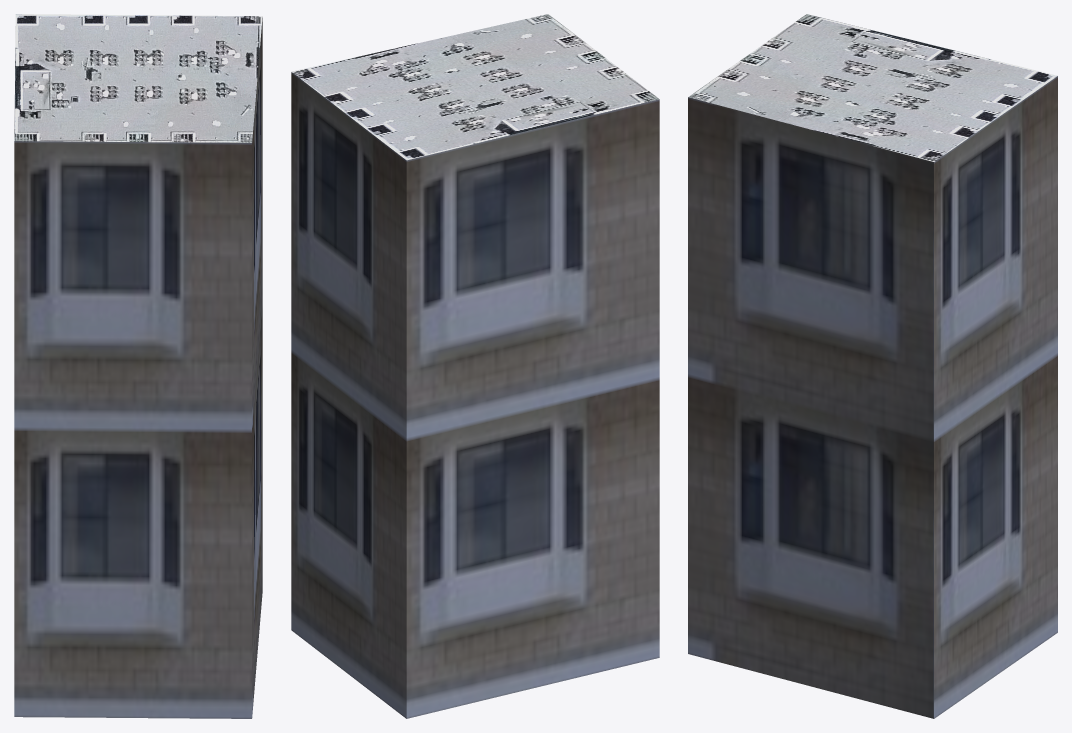
Rendered from ResTex__5170.fbx.
The picture shows the model from 3 angles, left to right: view 1: azimuth 30°, elevation 25°; view 2: azimuth 150°, elevation 25°; view 3: azimuth 270°, elevation 25°; orthographic projection. The views are drawn at different scales.
Visible parts, largest first — view 1: CityEngineMaterial_3_m, CityEngineMaterial_4_m; view 2: CityEngineMaterial_3_m, CityEngineMaterial_4_m; view 3: CityEngineMaterial_3_m, CityEngineMaterial_4_m.
Boxes of the visible parts, bbox=[...] form: CityEngineMaterial_3_m: bbox=[14, 18, 262, 718]; CityEngineMaterial_4_m: bbox=[14, 14, 262, 142]; CityEngineMaterial_3_m: bbox=[291, 72, 659, 718]; CityEngineMaterial_4_m: bbox=[291, 14, 659, 160]; CityEngineMaterial_3_m: bbox=[688, 76, 1057, 718]; CityEngineMaterial_4_m: bbox=[688, 14, 1057, 161].
Size of the model in its own units: 3.42 by 6 by 3.61.
Materials: 2 (2 with a texture image).
